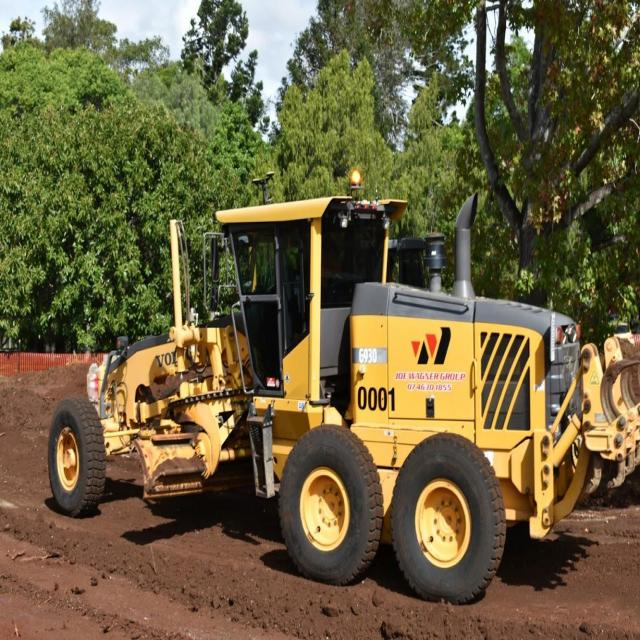Grader: (45, 172, 640, 616)
